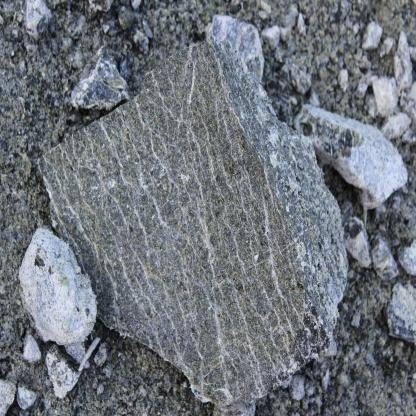stone: (38, 40, 350, 405), (297, 107, 410, 207), (16, 229, 97, 350), (70, 54, 129, 115)
